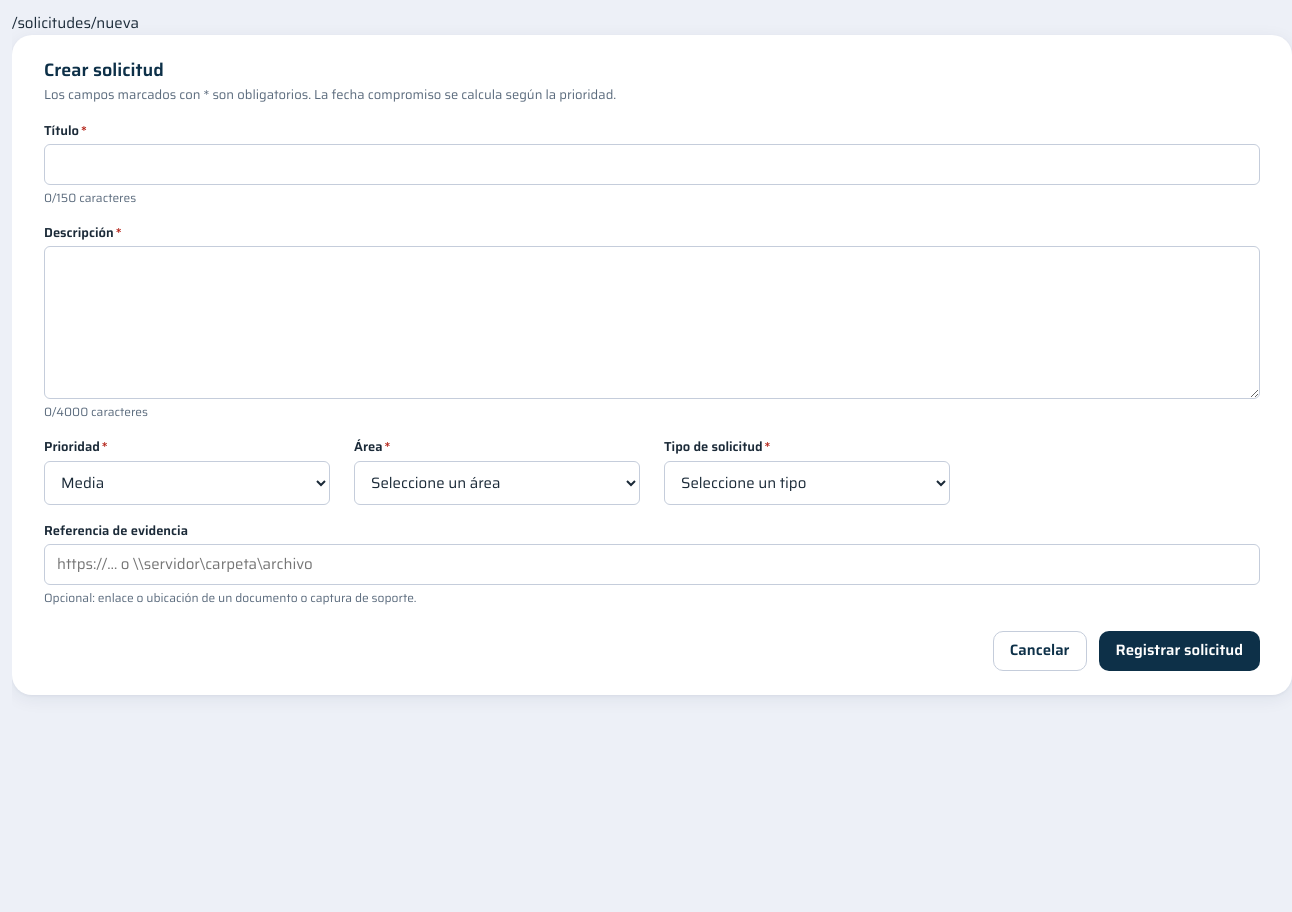
Test: ServiceRequestCreatePage › muestra junto al campo el error de validación que devuelve la API
Step 1. Type "Instalar Power BI" into the field labelled "Título*" → coordinates (652, 164), box [44,144,1260,184]
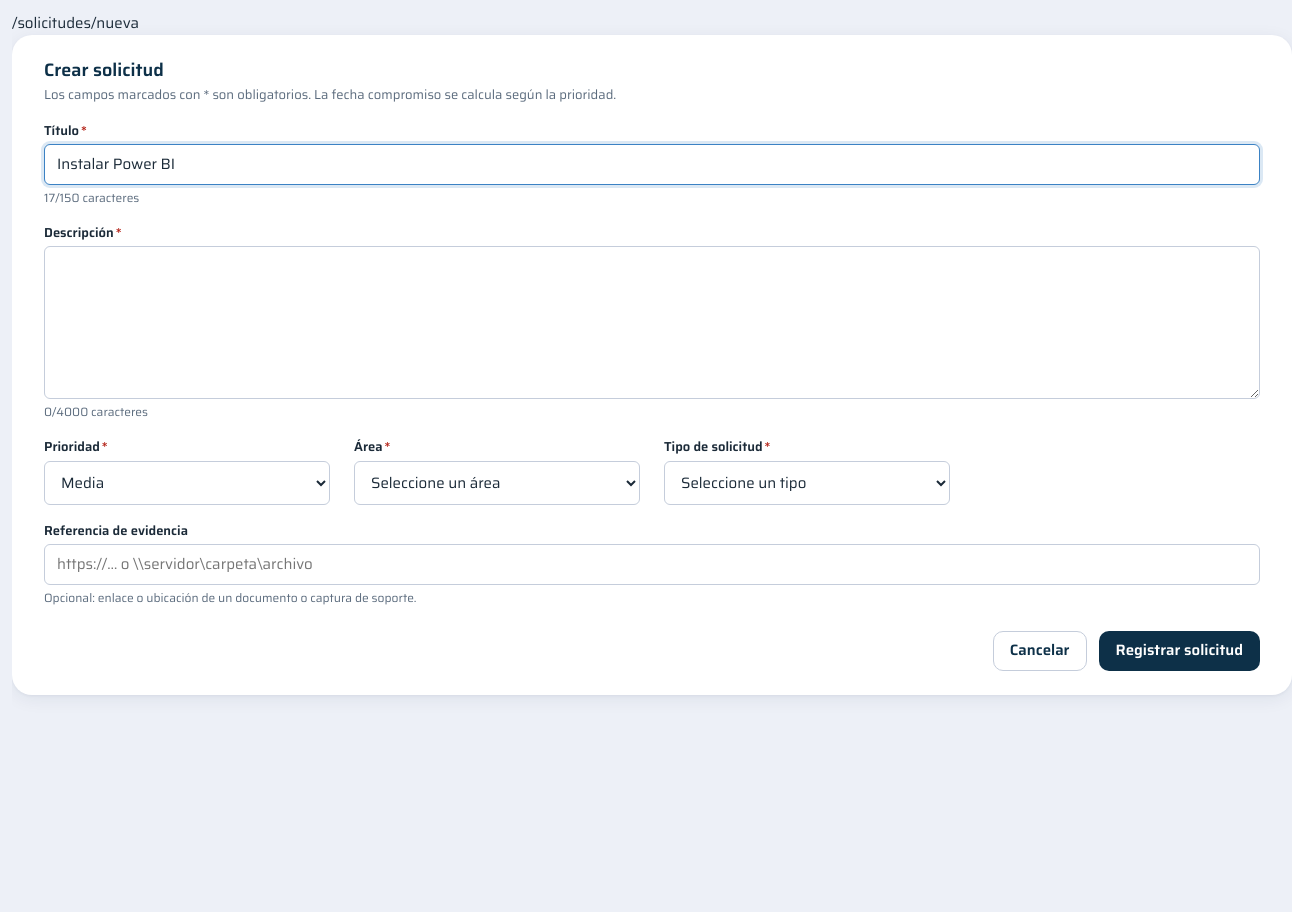
Step 2. Type "Necesito Power BI para los tableros del área." into the text box labelled "Descripción*" → coordinates (652, 322), box [44,246,1260,399]
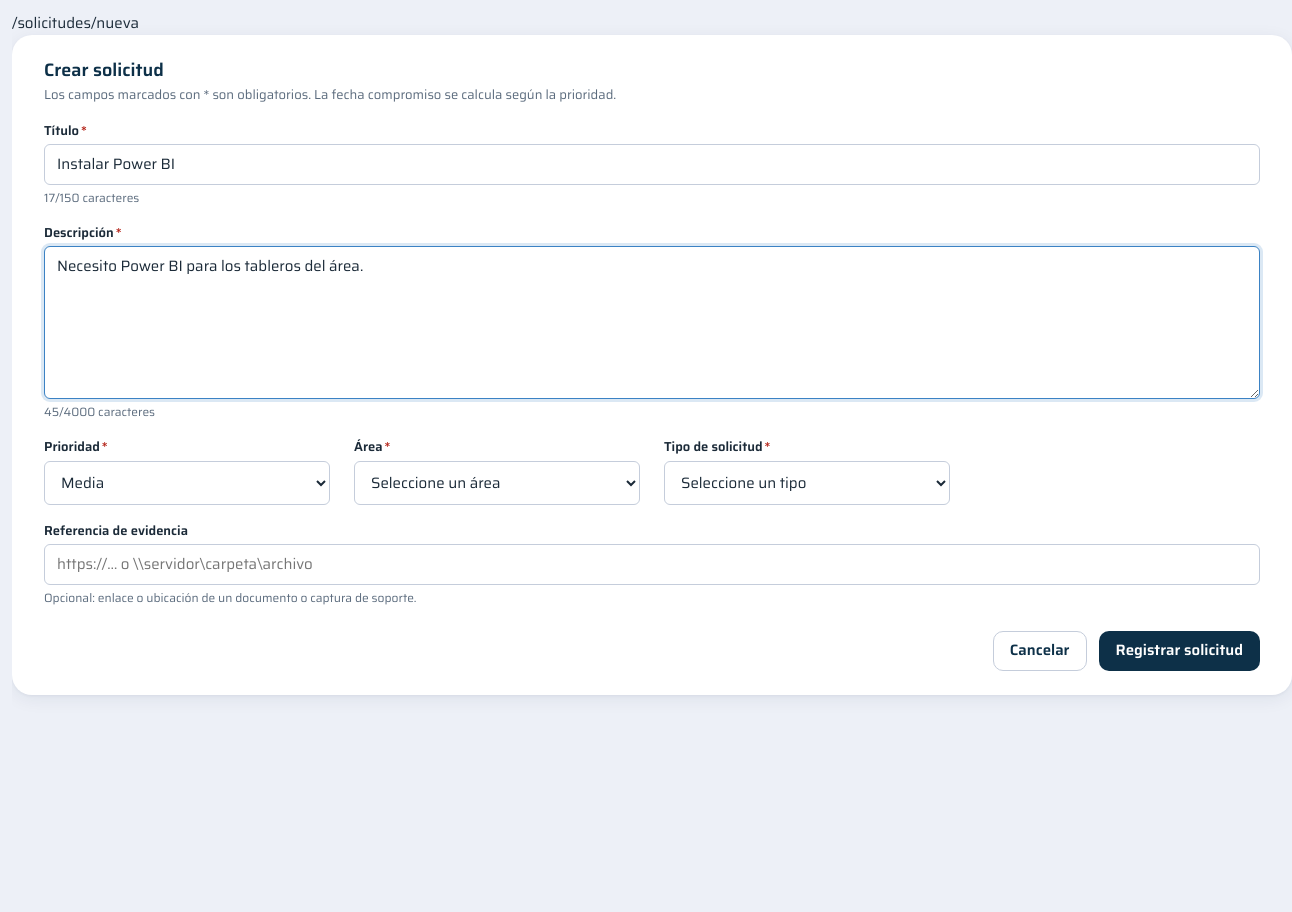
Step 3. Select "Tecnología" in the dropdown labelled "Área*" → coordinates (497, 482), box [354,460,640,504]
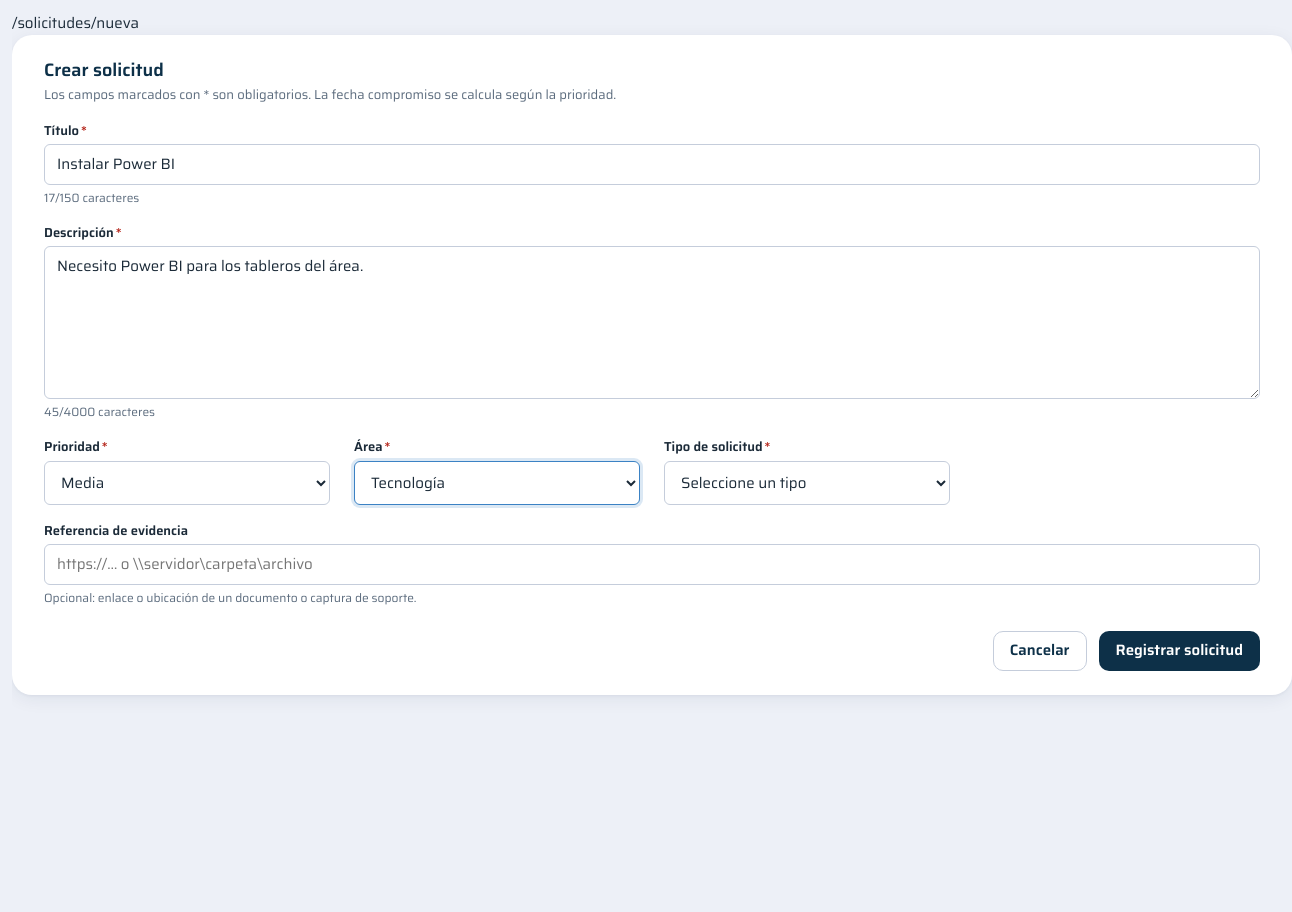
Step 4. Select "Soporte" in the dropdown labelled "Tipo de solicitud*" → coordinates (807, 482), box [664,460,950,504]
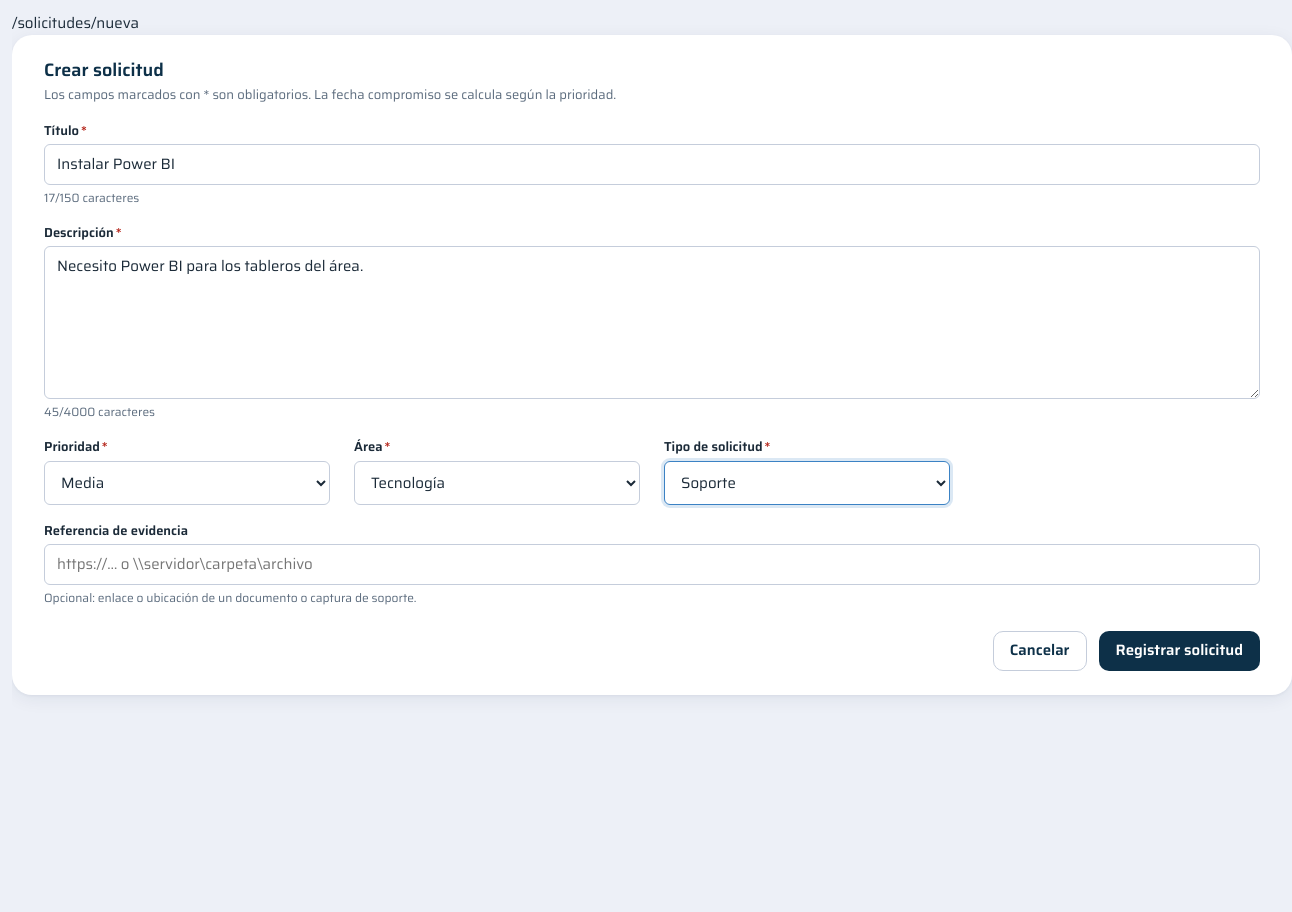
Step 5. Click the button "Registrar solicitud" → coordinates (1179, 650), box [1098,630,1260,670]
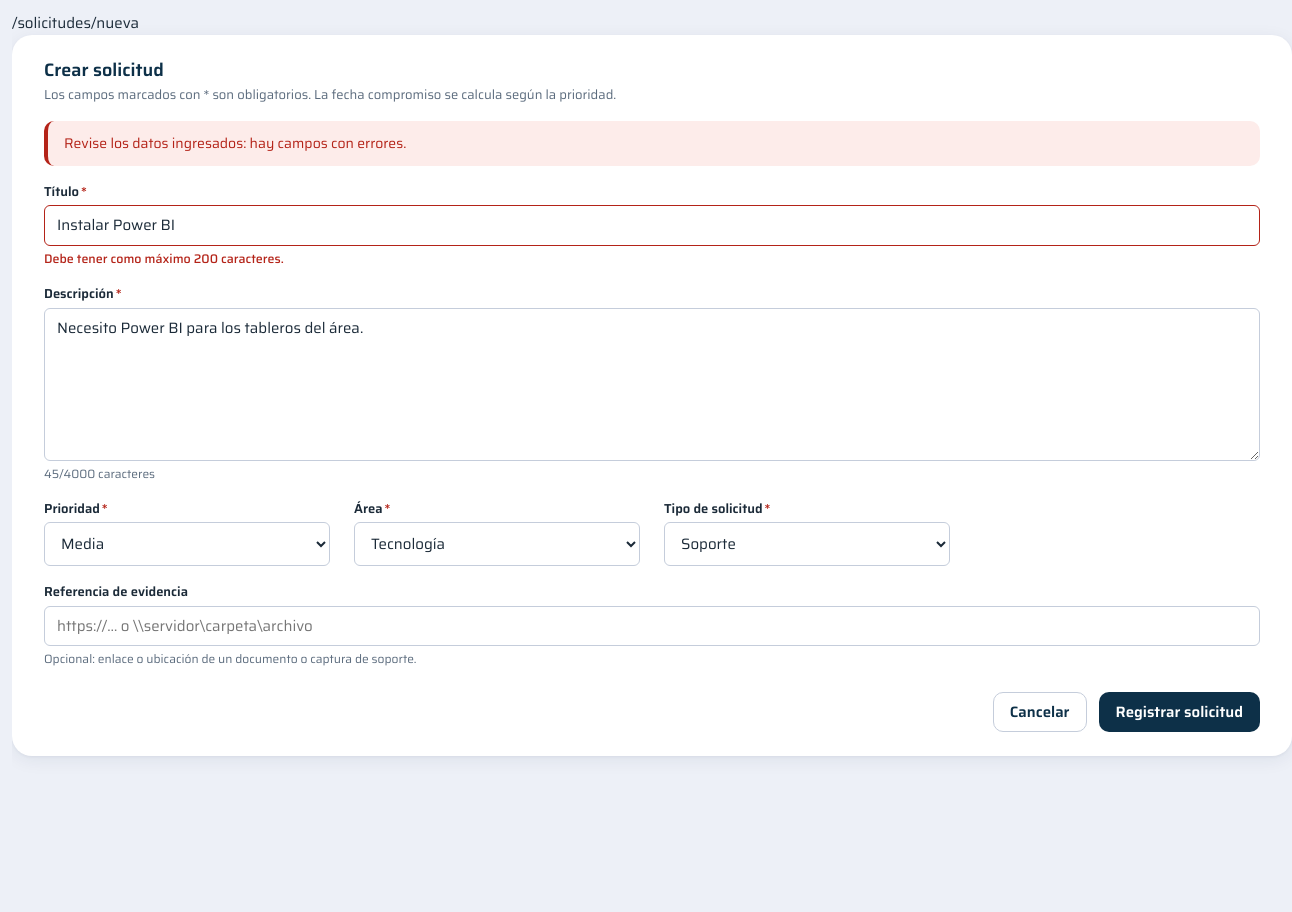
Expected: the text with test id "ruta" reads "/solicitudes/nueva", [12,11,139,35]
Result: the text "Debe tener como máximo 200 caracteres." is shown at [44,248,284,268]
